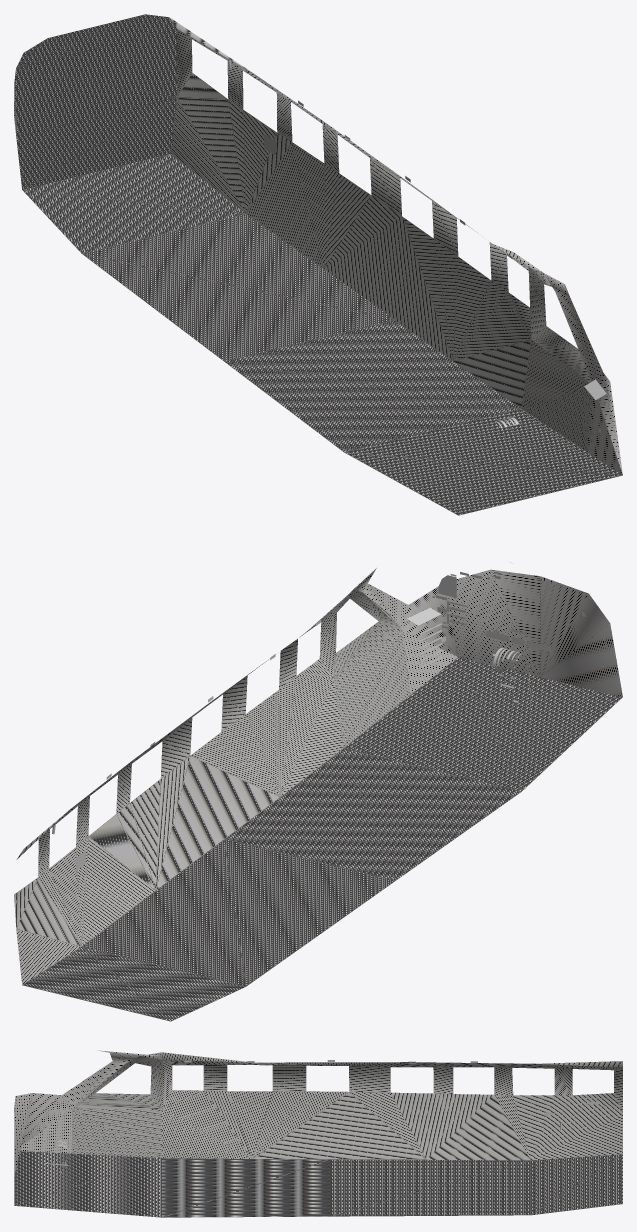
The model's file is 208B_GRAND_CARAVAN_EX_INTERIOR_LOD06.gltf.
The picture shows the model from 3 angles, top to bottom: view 1: azimuth 30°, elevation 25°; view 2: azimuth 150°, elevation 25°; view 3: azimuth 270°, elevation 25°; orthographic projection. The views are drawn at different scales.
Visible parts, largest first — view 1: FLOOR_BACK, BACK, DOORS, TOP_FRONT; view 2: FLOOR_BACK, BACK, TOP_FRONT, DOORS, DECALS_Emissive; view 3: BACK, FLOOR_BACK, DOORS, TOP_FRONT, DECALS_NotEmissive.
Boxes of the visible parts, left/top/right/bottom form: FLOOR_BACK: left=16, top=14, right=622, bottom=515; BACK: left=14, top=17, right=531, bottom=408; DOORS: left=522, top=267, right=592, bottom=450; TOP_FRONT: left=515, top=253, right=622, bottom=475; FLOOR_BACK: left=22, top=657, right=622, bottom=1021; BACK: left=14, top=593, right=531, bottom=984; TOP_FRONT: left=354, top=568, right=622, bottom=696; DOORS: left=334, top=588, right=410, bottom=747; DECALS_Emissive: left=407, top=575, right=585, bottom=702; BACK: left=162, top=1052, right=622, bottom=1160; FLOOR_BACK: left=14, top=1151, right=622, bottom=1217; DOORS: left=72, top=1056, right=162, bottom=1157; TOP_FRONT: left=14, top=1050, right=162, bottom=1176; DECALS_NotEmissive: left=32, top=1060, right=598, bottom=1135.
Size of the model in its own units: 1.77 by 1.4 by 6.4.
